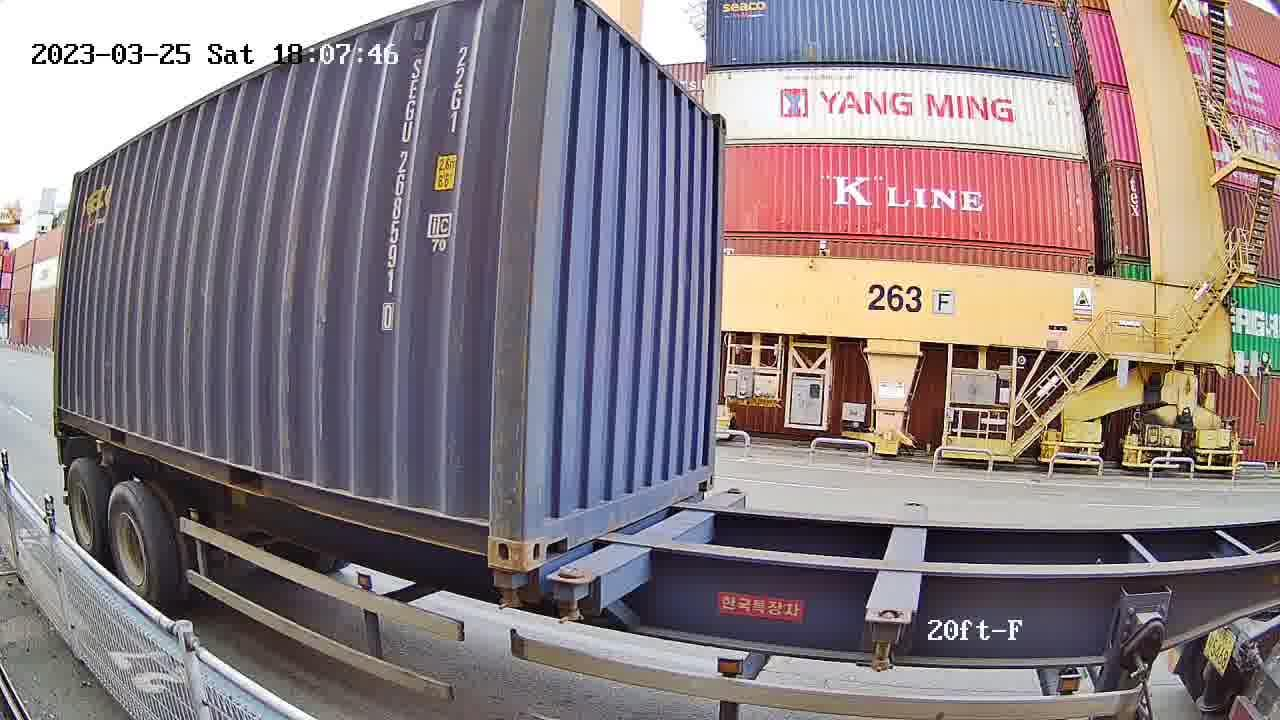Chassis: (547, 493, 748, 608)
Cone: (549, 566, 596, 627), (491, 571, 527, 613)
Hole_L: (524, 495, 572, 575)
Hole_R: (457, 501, 523, 575), (691, 451, 716, 497)
Tire: (106, 486, 161, 606), (66, 461, 102, 560)
